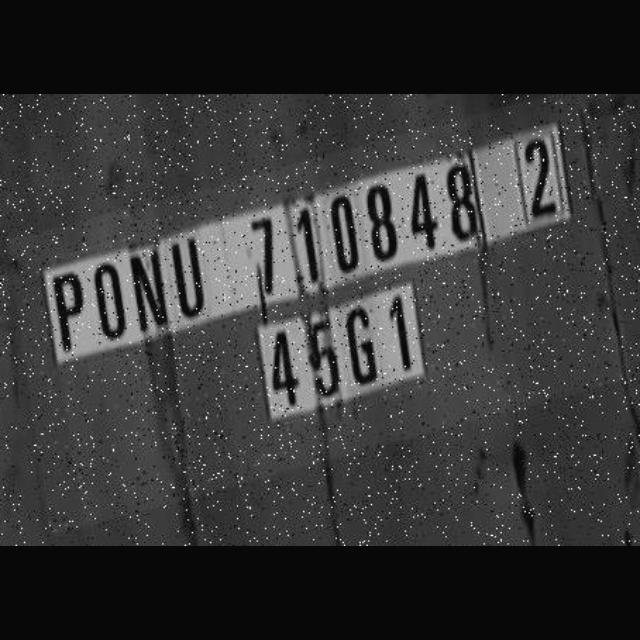0: (326, 186, 366, 280)
1: (384, 284, 421, 378), (290, 199, 326, 293)
2: (518, 127, 564, 226)
4: (264, 321, 306, 414), (403, 163, 442, 257)
5: (302, 314, 346, 404)
7: (245, 211, 282, 303)
8: (440, 157, 486, 249), (364, 178, 402, 268)
g: (344, 293, 382, 395)
n: (128, 240, 170, 340)
o: (90, 250, 130, 348)
p: (49, 263, 90, 361)
u: (168, 230, 210, 328)
